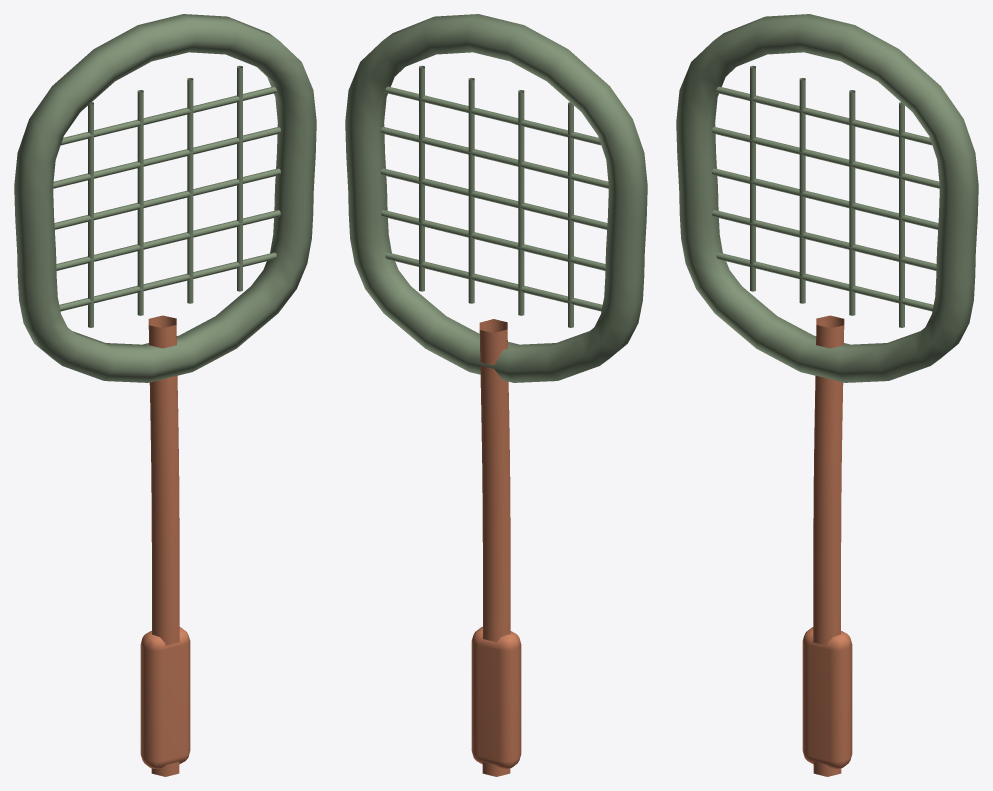
File: swatter.glb
3 views of the same model, side by side, from view 1: azimuth 30°, elevation 25°; view 2: azimuth 150°, elevation 25°; view 3: azimuth 330°, elevation 25° (orthographic).
Visible parts, largest first — view 1: House_swatter; view 2: House_swatter; view 3: House_swatter.
Part boxes in pixels (x1,y1,x2,y2): House_swatter: (14,14,316,776); House_swatter: (345,14,647,776); House_swatter: (676,14,978,776).
Size of the model in its own units: 0.2953 by 0.7199 by 0.0341.
